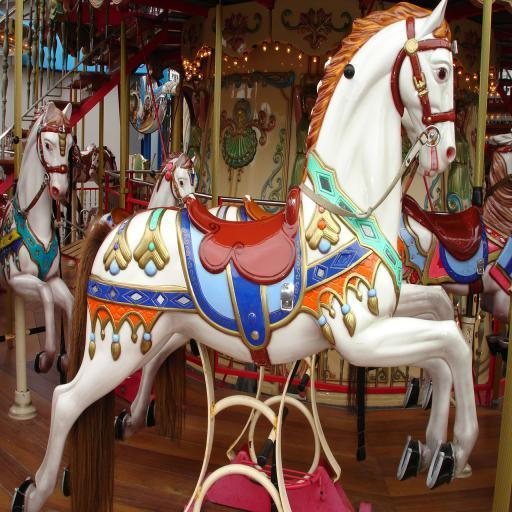horse: (10, 0, 480, 512), (395, 171, 512, 412), (0, 100, 76, 376), (92, 150, 199, 234), (87, 142, 144, 198), (485, 132, 512, 189)
